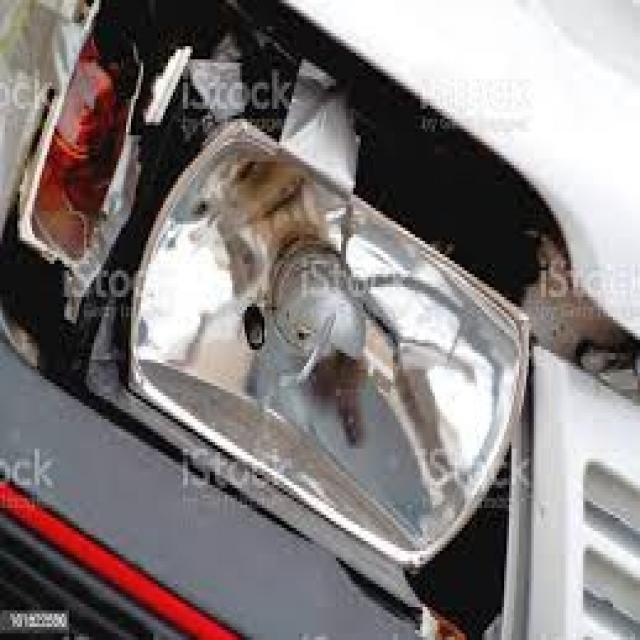damaged-head-light: (1, 0, 543, 579)
